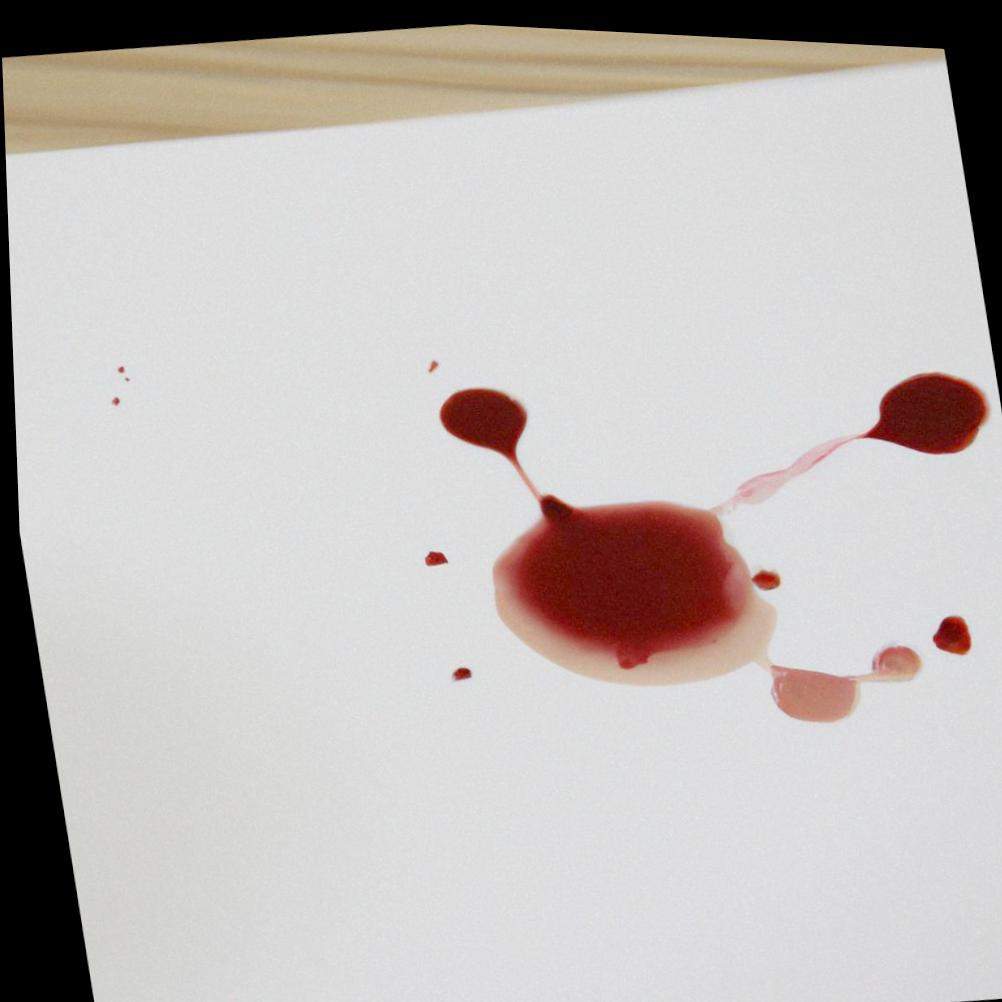Fire: (436, 361, 989, 713), (927, 605, 967, 645), (420, 546, 444, 562), (447, 662, 467, 675)
